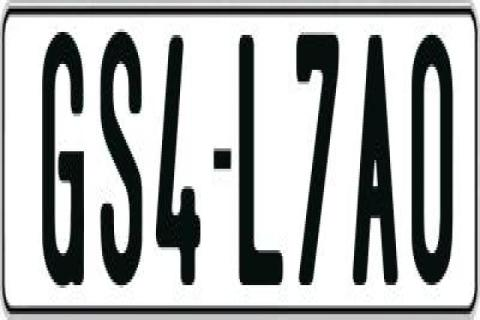0: (410, 26, 458, 291), (153, 32, 197, 291), (293, 35, 335, 299)
A: (354, 26, 404, 291)
G: (38, 29, 88, 294)
L: (236, 26, 284, 276)
S: (100, 27, 148, 280)
